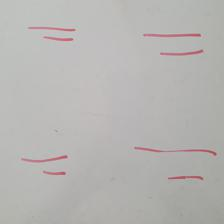five-prime-overhang: (134, 146, 218, 186), (143, 32, 204, 57), (21, 154, 68, 180), (28, 25, 76, 46)
